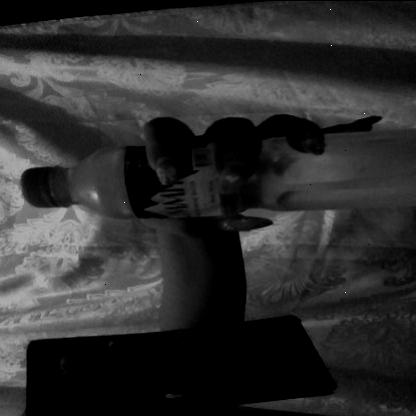Plastic Bottle: (5, 103, 416, 242)
